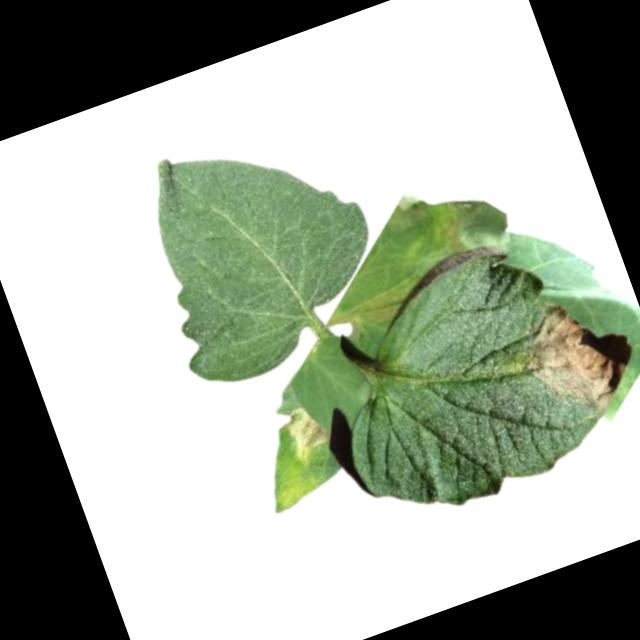Late_blight: (512, 290, 637, 433), (426, 186, 519, 277), (277, 398, 338, 469), (378, 183, 436, 234)
healthy: (119, 101, 405, 397)
